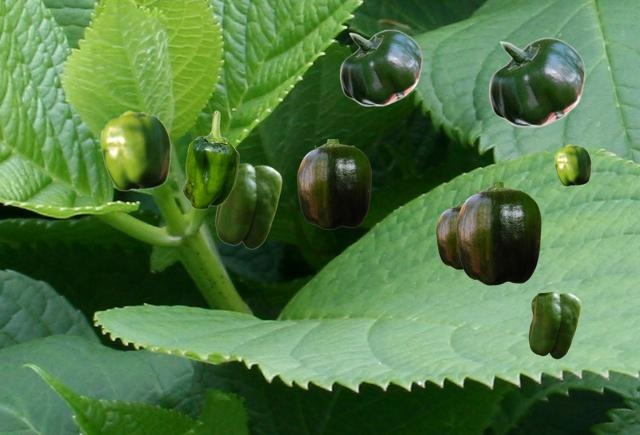bell_pepper: (456, 182, 540, 284), (488, 37, 584, 126), (297, 139, 370, 228), (339, 29, 421, 105), (215, 163, 281, 248), (100, 110, 170, 190), (182, 110, 238, 208), (528, 291, 580, 358), (436, 201, 463, 268), (554, 144, 590, 185)
